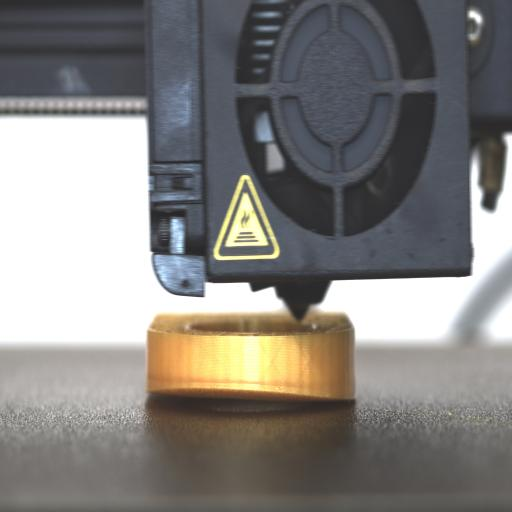warp: (146, 380, 347, 402)
